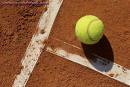tennis ball: (74, 14, 105, 45)
